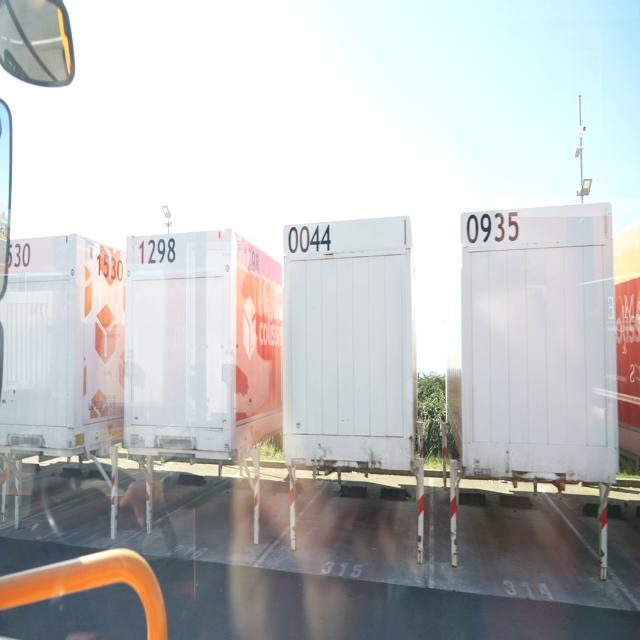Code: (462, 208, 522, 248), (285, 222, 338, 261), (135, 233, 180, 272), (91, 245, 126, 285), (238, 236, 266, 279)
